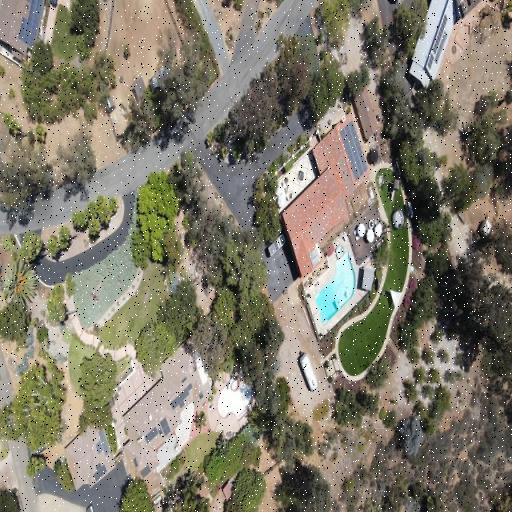solar-panel: (340, 119, 368, 181), (18, 0, 44, 50), (432, 13, 448, 55), (170, 382, 193, 411), (95, 427, 111, 456), (93, 462, 107, 482), (145, 427, 159, 444), (160, 417, 171, 436), (140, 464, 151, 479), (428, 53, 434, 70)
